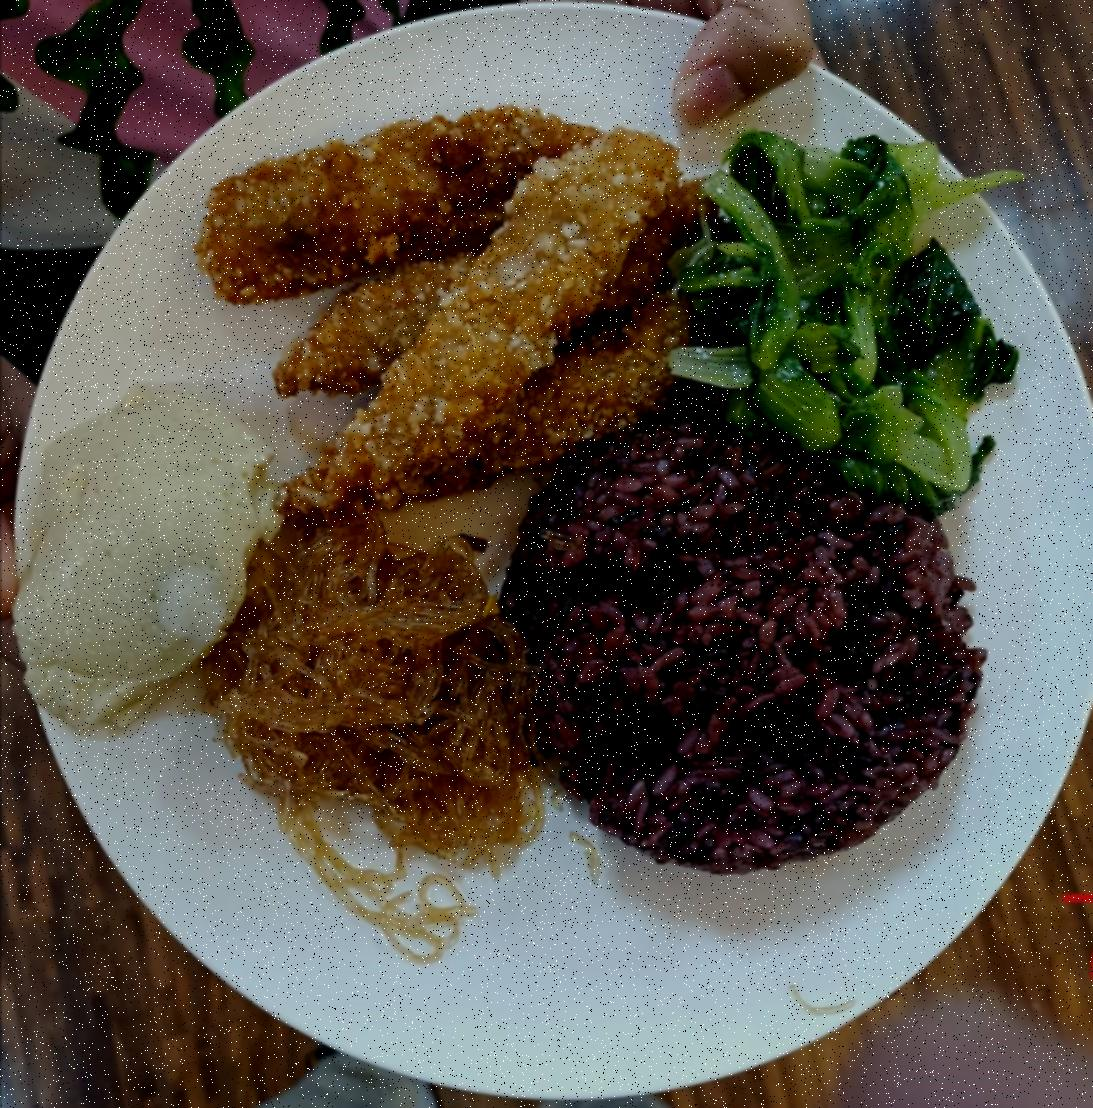fried spanish mackerel: (200, 83, 682, 495)
plate: (22, 18, 1083, 1108)
purple rice: (527, 419, 967, 893)
side dish: (235, 507, 522, 878), (696, 160, 990, 470), (17, 400, 266, 721)
